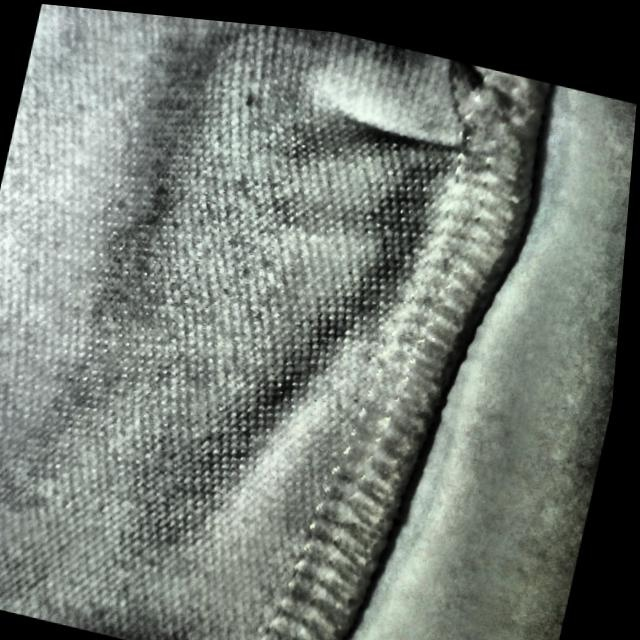seam: (350, 33, 565, 214)
